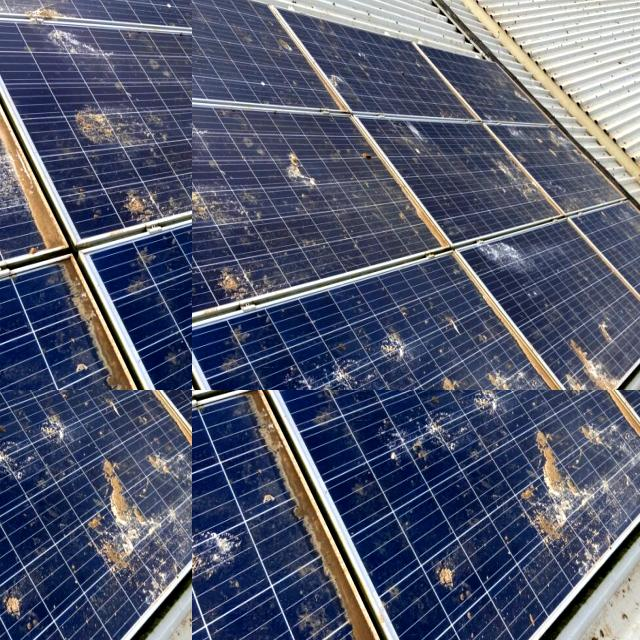bird: (521, 432, 589, 560), (192, 496, 247, 611), (370, 390, 424, 443), (201, 390, 272, 424), (247, 390, 318, 423), (479, 390, 535, 423), (297, 390, 368, 411), (436, 537, 452, 621), (567, 390, 626, 412), (471, 390, 493, 437), (192, 390, 215, 426), (452, 390, 464, 417)
crack: (0, 446, 192, 615), (0, 390, 152, 461), (88, 390, 192, 459), (0, 390, 115, 429), (78, 390, 192, 423), (0, 390, 101, 408)
dust: (30, 13, 66, 62), (0, 17, 26, 65), (72, 27, 104, 65), (106, 28, 134, 65), (30, 0, 66, 24), (0, 0, 27, 28), (73, 0, 96, 31), (140, 29, 160, 64), (126, 0, 144, 29), (98, 0, 114, 26), (110, 0, 137, 11), (65, 0, 102, 8), (0, 19, 6, 65), (73, 0, 105, 8), (27, 0, 61, 7), (103, 0, 127, 9), (0, 0, 24, 9), (0, 0, 6, 28), (146, 0, 161, 10)
panel: (192, 98, 246, 217), (255, 48, 314, 106), (198, 33, 245, 93), (298, 80, 346, 128), (330, 173, 376, 217), (352, 58, 396, 102), (242, 132, 294, 164), (226, 0, 270, 35), (192, 14, 219, 68), (192, 63, 230, 98), (192, 94, 212, 154), (256, 35, 290, 66), (366, 7, 396, 30)
